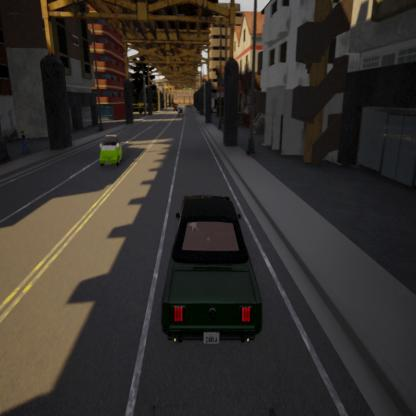Cars: (162, 195, 262, 346), (98, 134, 122, 167), (140, 104, 152, 116), (178, 107, 184, 116), (173, 104, 178, 112)
Pedestrian: (21, 131, 29, 154)
